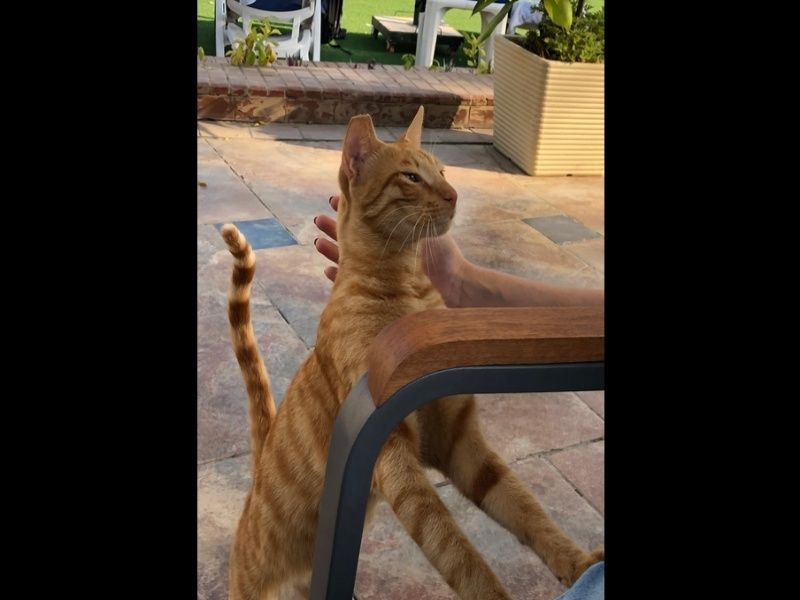cat: (219, 105, 602, 594)
